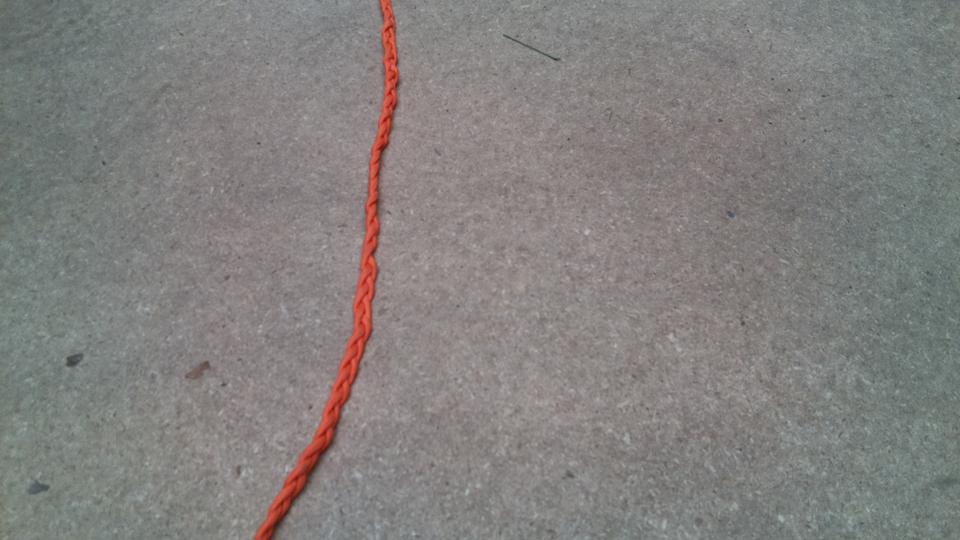rope: (247, 1, 406, 540)
